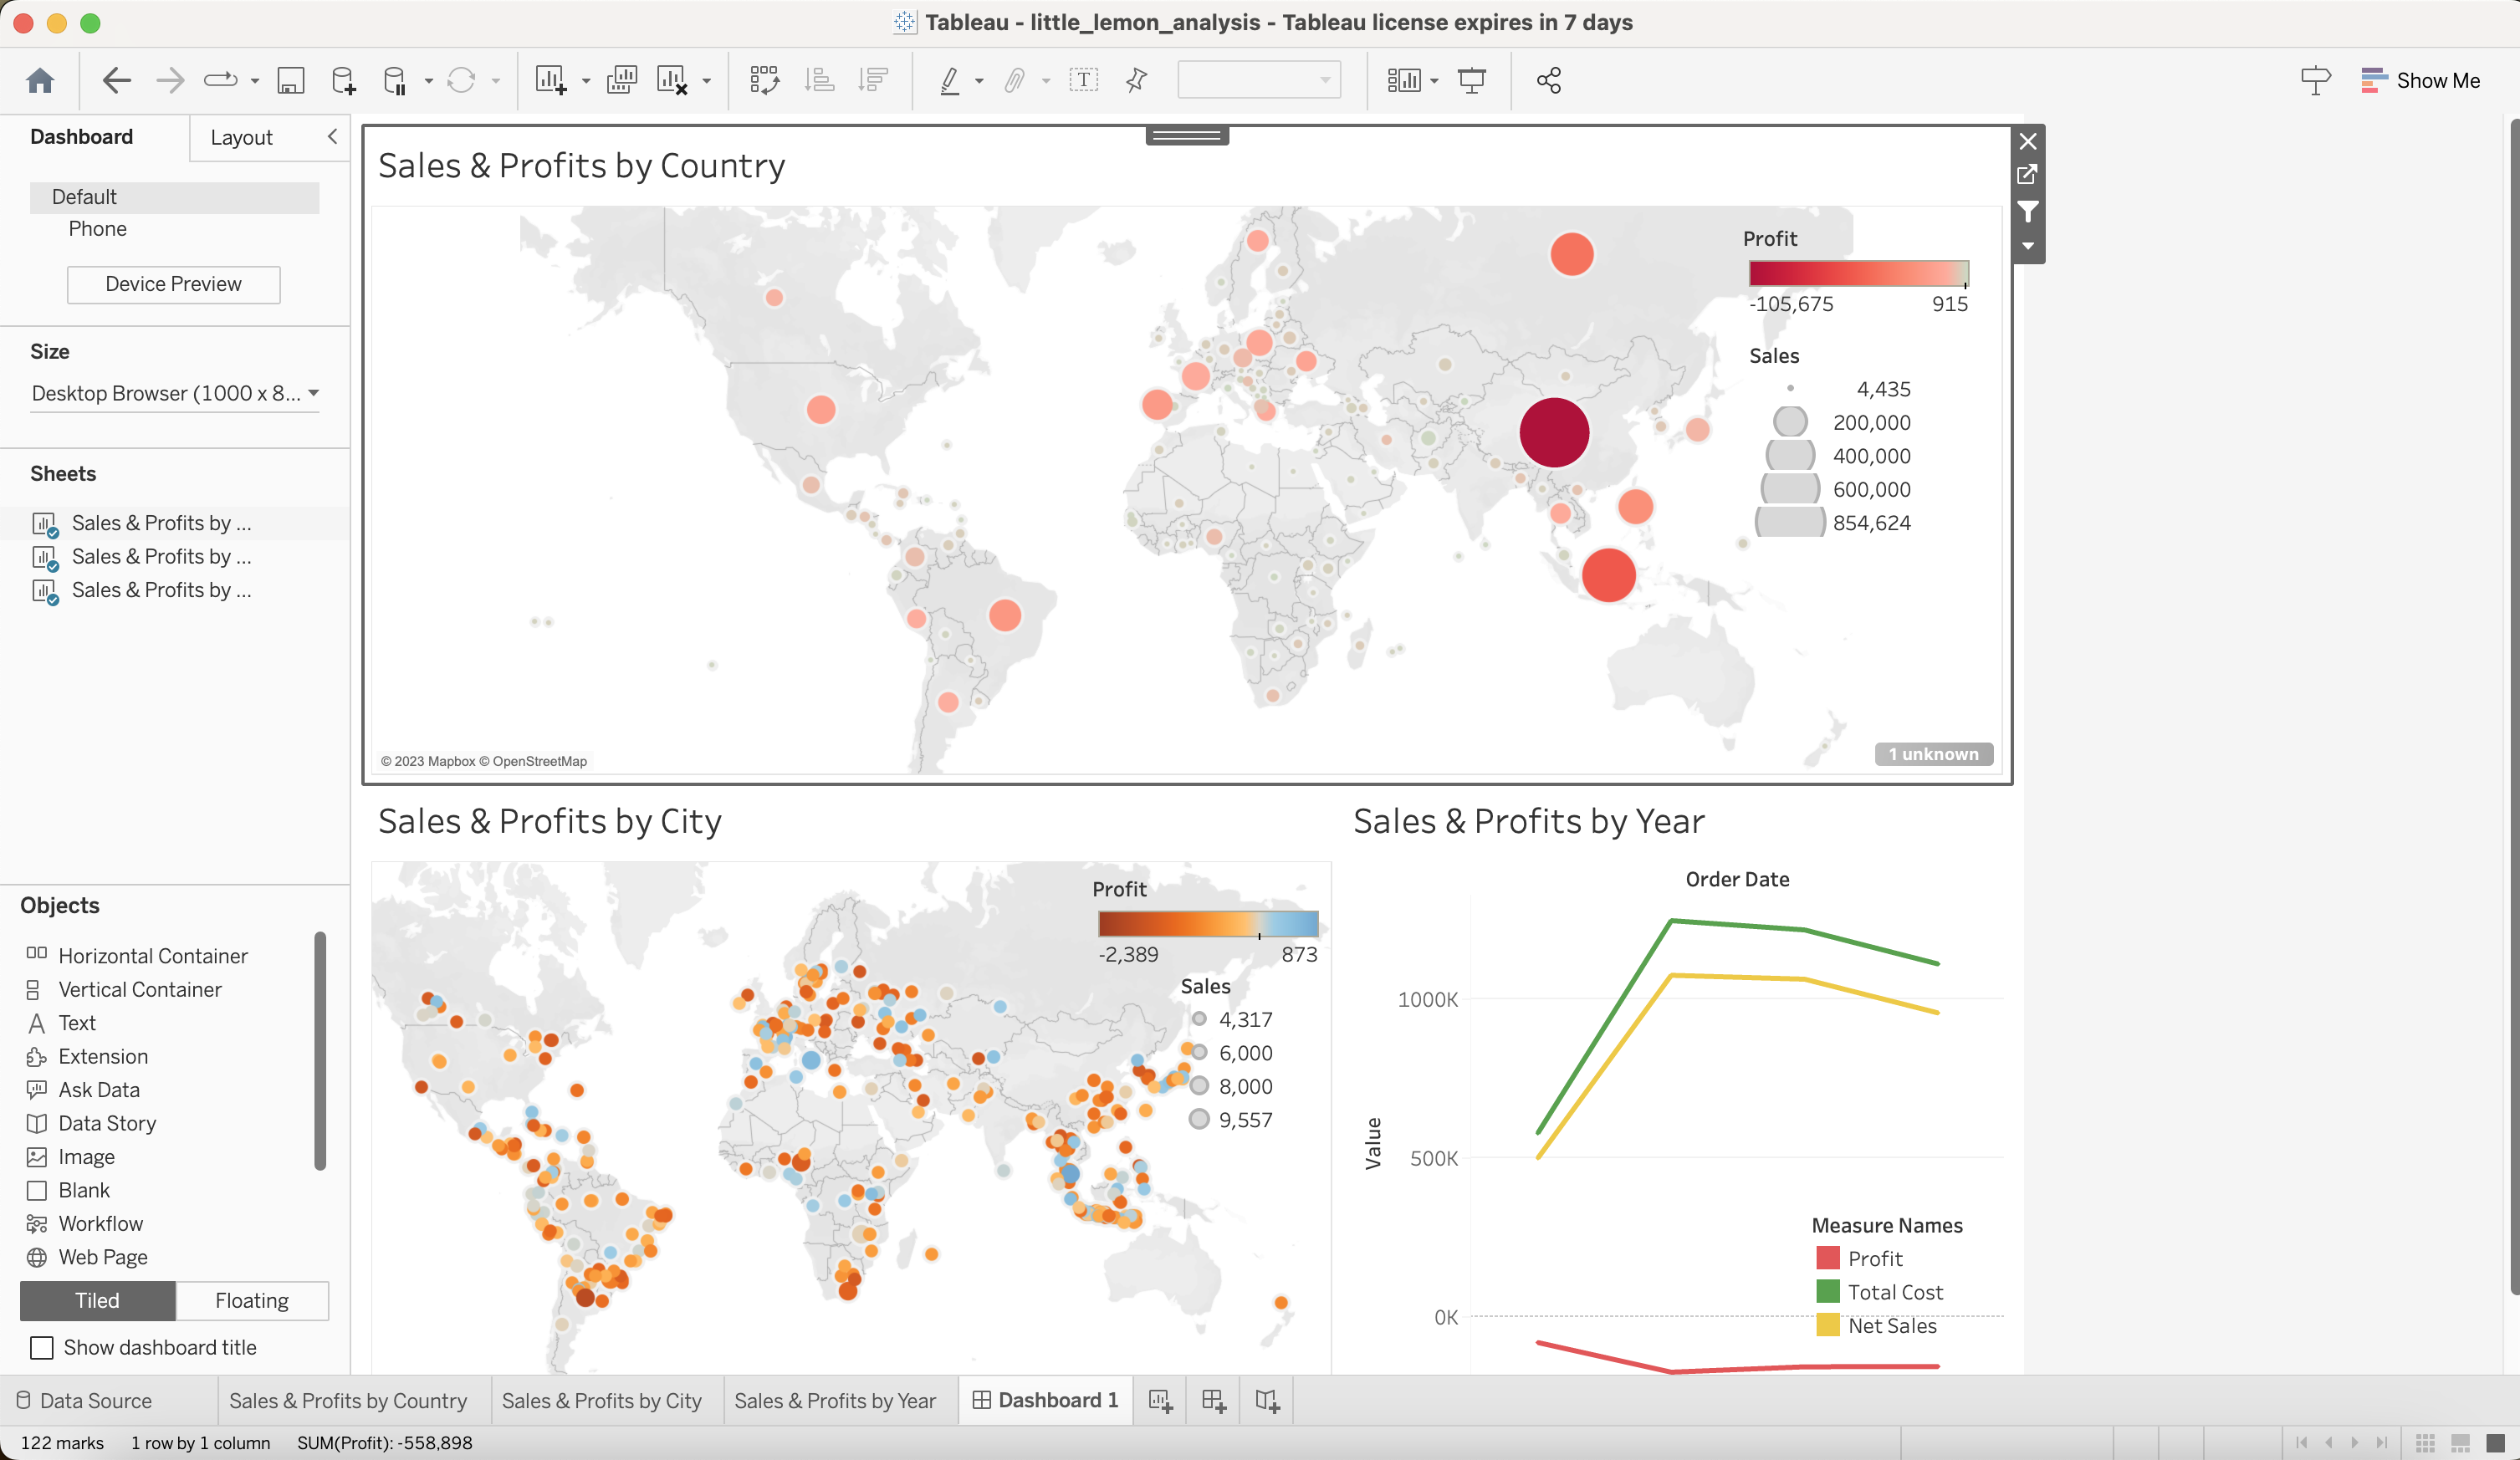

What the dashboard file says about the page in this screenshot:
{"tool":"tableau","page":{"name":"Dashboard 1","canvas":[1000,800],"ordinal":0},"visuals":[{"type":"worksheet","title":"Sales & Profits by Country","mark":"Automatic","box":[8,8,984,392]},{"type":"legend","title":"Sales & Profits by Country","param":"[federated.1coydva0ysdxof1bhe3r31dpa5ej].[sum:Calculation_334603411939258368:qk]","box":[832,66,140,76]},{"type":"legend","title":"Sales & Profits by Country","param":"[federated.1coydva0ysdxof1bhe3r31dpa5ej].[sum:Sales:qk]","box":[836,136,140,118]},{"type":"worksheet","title":"Sales & Profits by City","mark":"Automatic","box":[8,400,583,392]},{"type":"worksheet","title":"Sales & Profits by Year","mark":"Line","cols":["Order Date"],"box":[591,400,401.1,392]},{"type":"legend","title":"Sales & Profits by City","param":"[federated.1coydva0ysdxof1bhe3r31dpa5ej].[sum:Calculation_334603411939258368:qk]","box":[443,455,140,55]},{"type":"legend","title":"Sales & Profits by City","param":"[federated.1coydva0ysdxof1bhe3r31dpa5ej].[sum:Sales:qk]","box":[496,513,86,113]},{"type":"legend","title":"Sales & Profits by Year","param":"[federated.1coydva0ysdxof1bhe3r31dpa5ej].[:Measure Names]","box":[873,656,111,78]}]}

Visuals, with their boxes on the page's 1000x800 design canvas (x1, y1, x2, y2). These are canvas units, not pixel positions in the 2520x1460 screenshot, which may show the page scaled, cropped or inside an application window:
"Sales & Profits by Country" worksheet: box=[8, 8, 992, 400]
"Sales & Profits by Country" legend: box=[832, 66, 972, 142]
"Sales & Profits by Country" legend: box=[836, 136, 976, 254]
"Sales & Profits by City" worksheet: box=[8, 400, 591, 792]
"Sales & Profits by Year" worksheet (Line marks): box=[591, 400, 992, 792]
"Sales & Profits by City" legend: box=[443, 455, 583, 510]
"Sales & Profits by City" legend: box=[496, 513, 582, 626]
"Sales & Profits by Year" legend: box=[873, 656, 984, 734]
